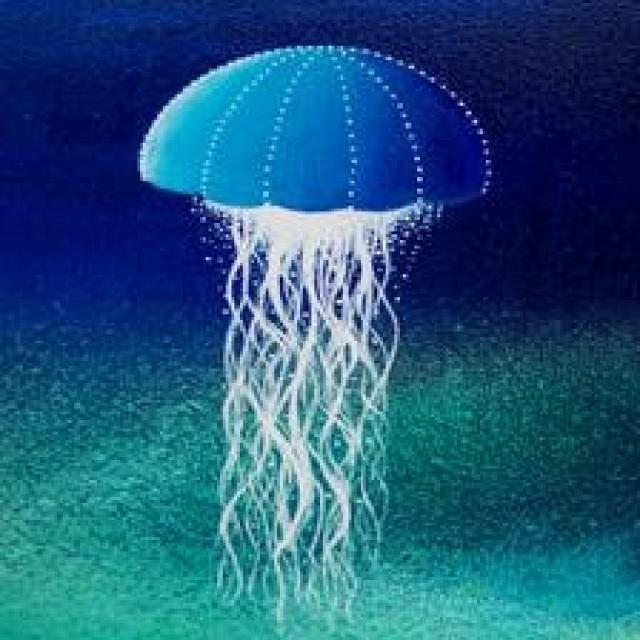Box-jellyfish: (134, 40, 492, 623)
